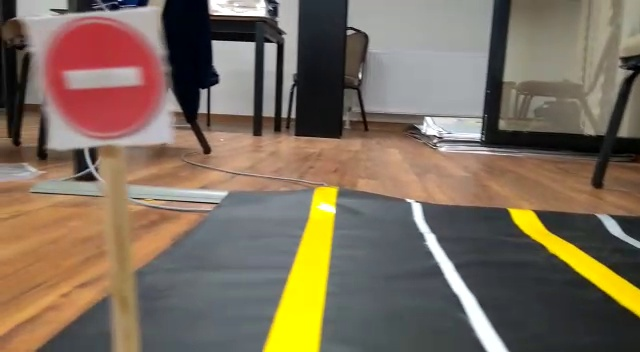girisi_olmayan_yol: (36, 12, 173, 140)
